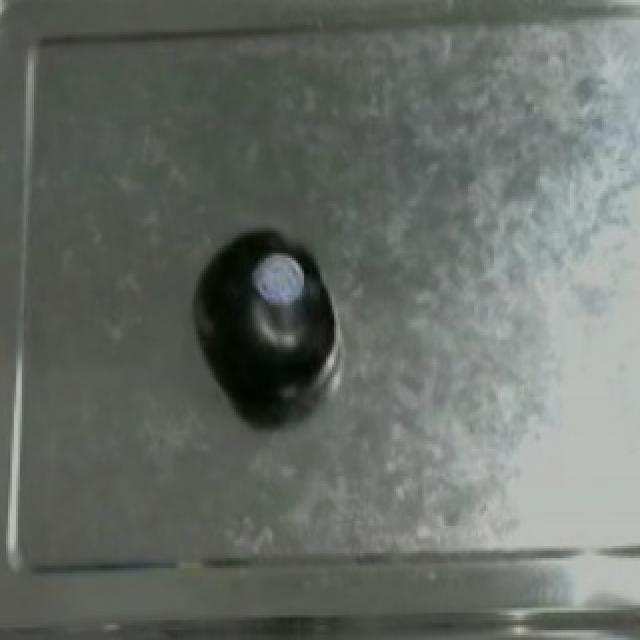Fruit: (188, 238, 346, 414)
